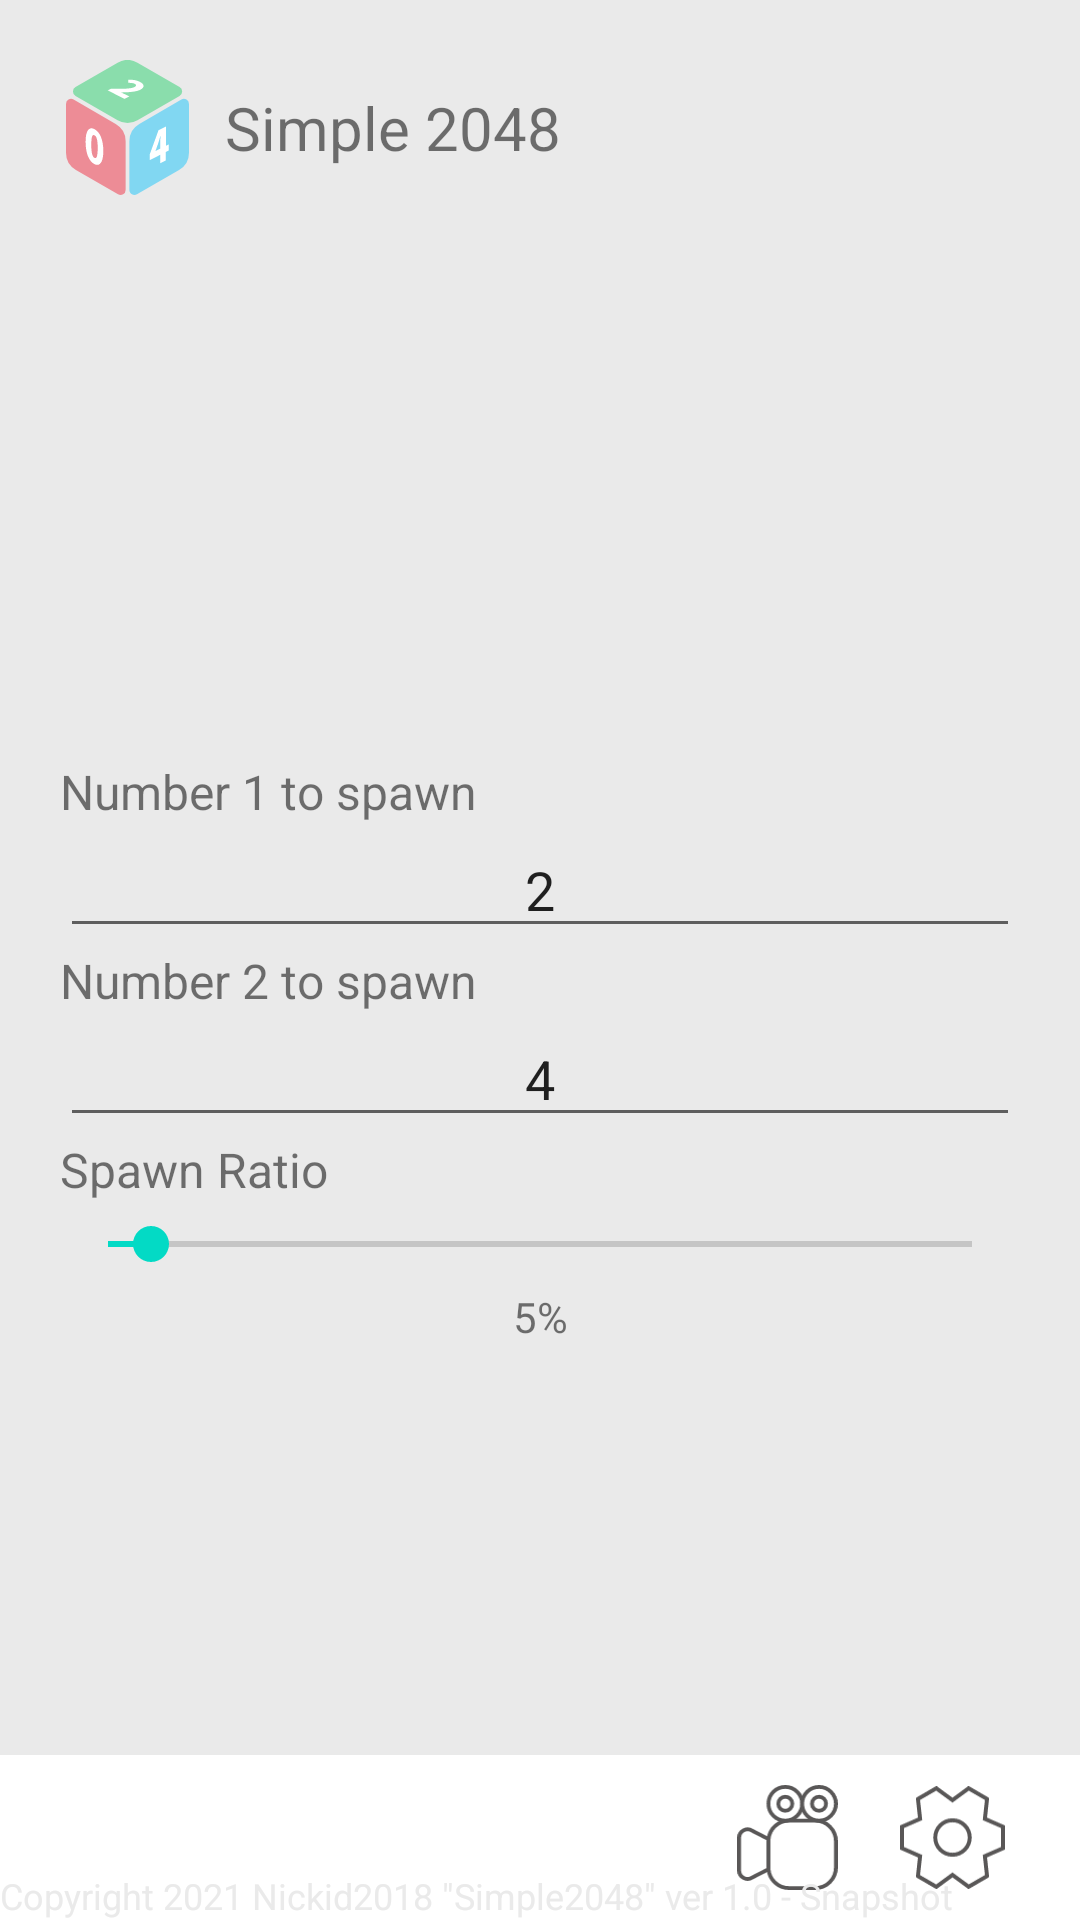

Named icons in this screenshot (1080w x 1920h) and their bounding boxes, (left=x1, top=y1, right=x2, bottom=y2):
settings: (left=900, top=1786, right=1005, bottom=1889)
